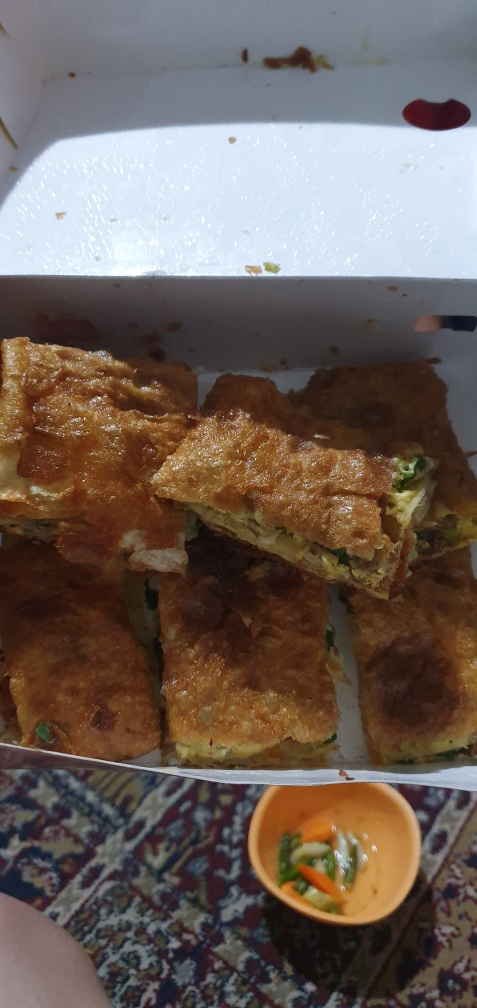martabak telor: (177, 367, 441, 607), (1, 350, 226, 574), (149, 559, 353, 761)
